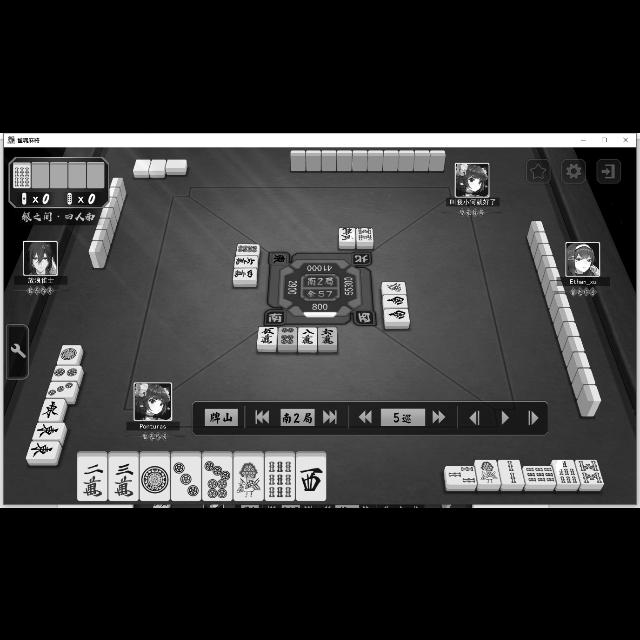1p: (140, 456, 170, 500), (58, 344, 82, 364)
1s: (233, 456, 264, 500), (476, 459, 500, 483)
2m: (77, 457, 106, 501)
2p: (51, 365, 80, 381)
2s: (498, 458, 524, 484)
3m: (109, 456, 138, 500)
3p: (171, 456, 201, 500), (46, 382, 78, 398)
3s: (444, 465, 478, 483)
4m: (233, 267, 257, 279)
5m: (258, 326, 278, 344), (338, 226, 356, 240)
6m: (318, 327, 338, 345), (234, 256, 258, 266)
6p: (278, 326, 298, 346)
6s: (14, 164, 31, 186)
7p: (202, 456, 232, 500)
7s: (552, 459, 580, 483)
8m: (298, 327, 316, 345)
8p: (236, 242, 260, 254)
8s: (577, 459, 603, 483), (356, 227, 374, 241)
9s: (266, 456, 294, 499), (524, 466, 556, 484)
haku: (148, 158, 166, 170), (133, 158, 151, 170), (166, 158, 187, 168)
hatsu: (382, 281, 406, 293)
nan: (382, 293, 406, 307), (384, 308, 410, 320)
sha: (296, 456, 326, 500)
tou: (36, 398, 66, 420), (26, 439, 58, 458), (32, 422, 64, 440)
